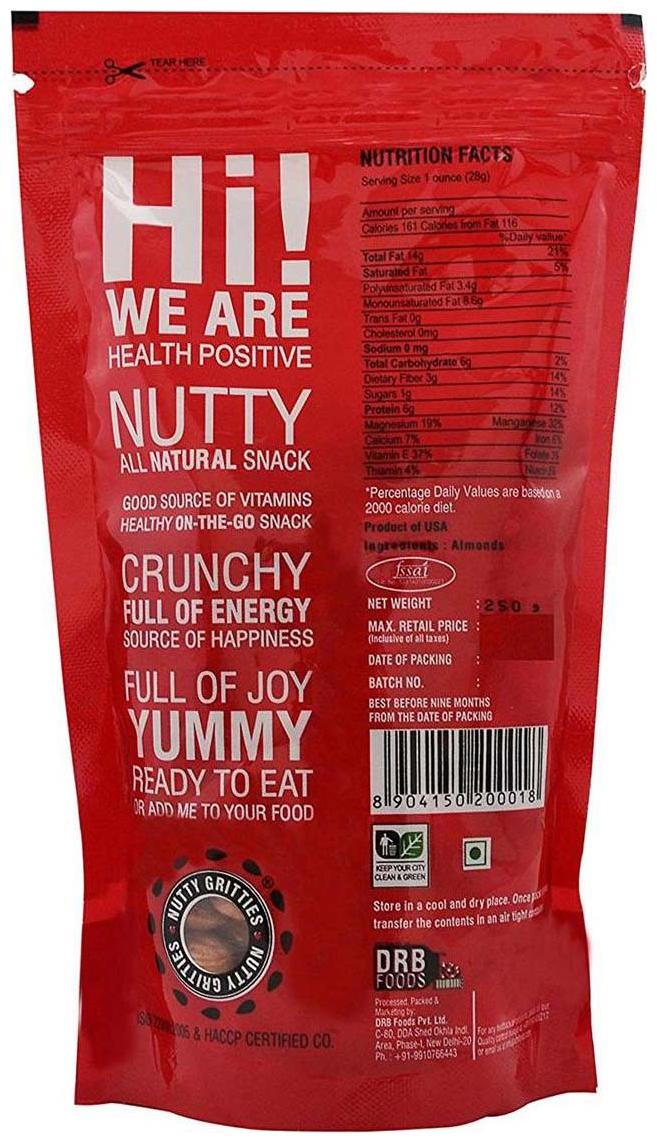fssai: (390, 560, 433, 578)
